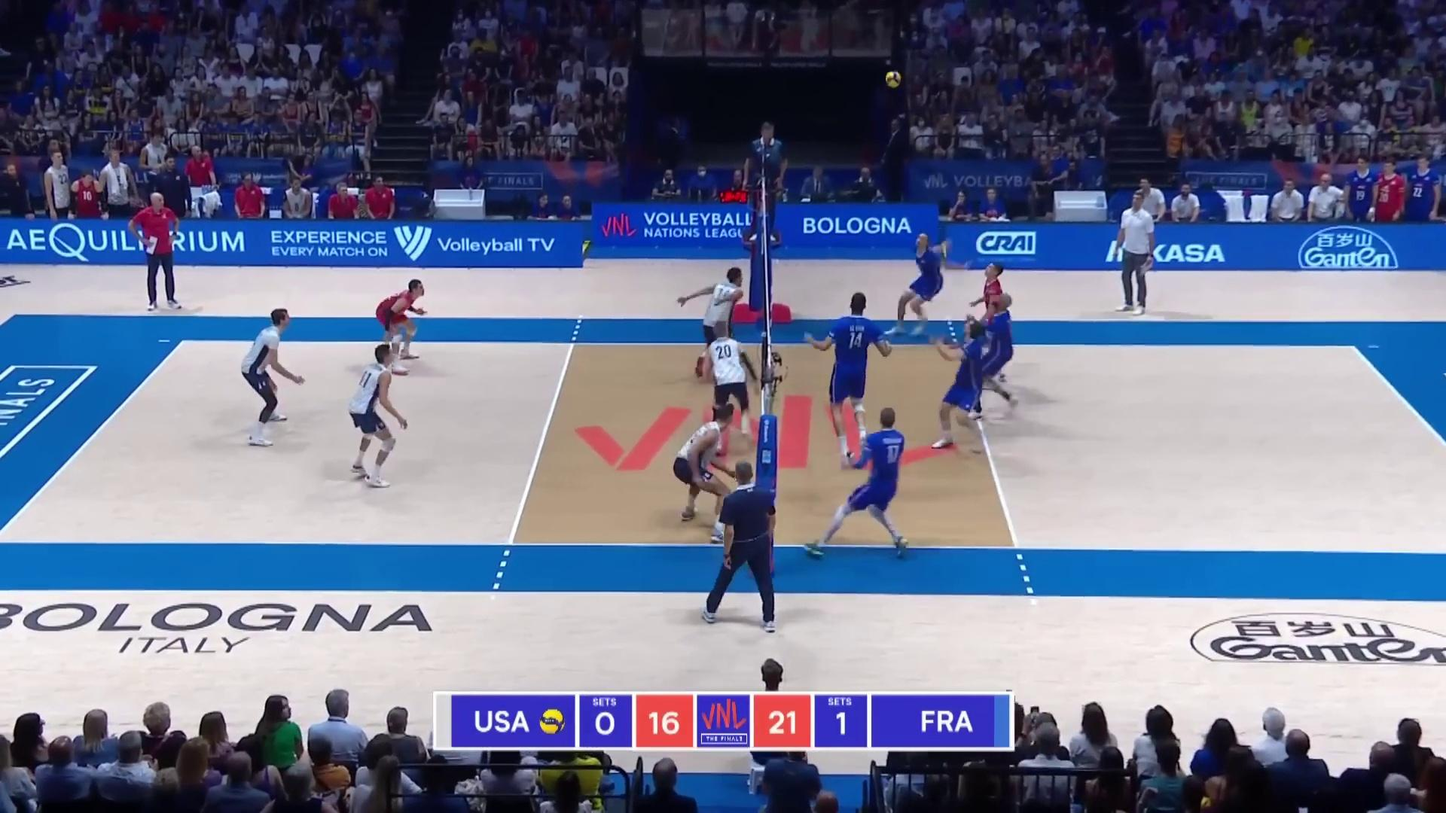player: (807, 405, 906, 555), (811, 292, 888, 469), (345, 348, 413, 490), (672, 401, 740, 542), (241, 309, 305, 447), (932, 323, 997, 456), (676, 265, 747, 377), (971, 290, 1021, 421), (890, 232, 947, 343), (700, 324, 755, 429), (377, 278, 436, 367), (974, 262, 1013, 380)
refree: (703, 461, 781, 628), (745, 125, 788, 246)
